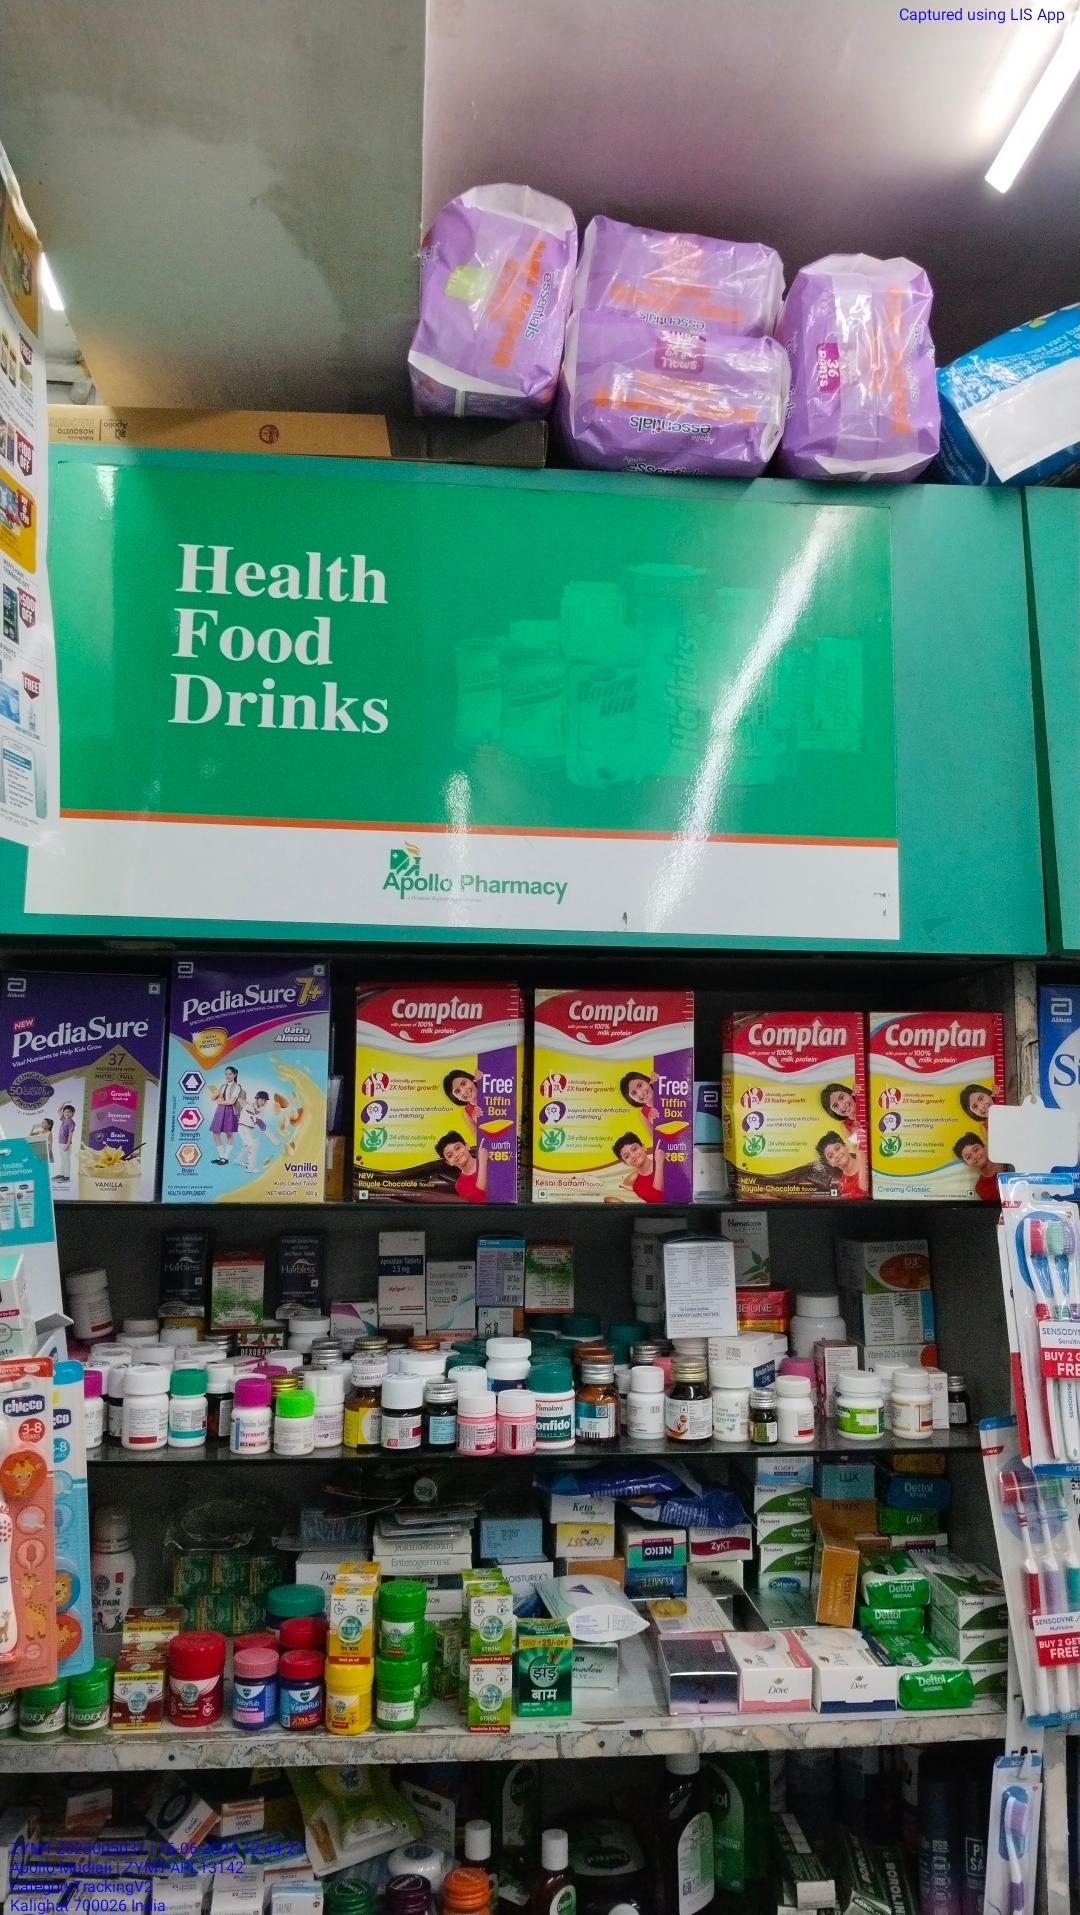COMPLAN_CREAMY_CLASSIC_500_G_PACK: (870, 1011, 987, 1198)
